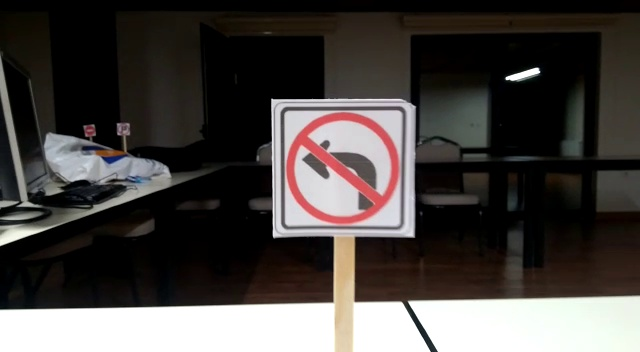sola_donulmez: (279, 102, 412, 232)
